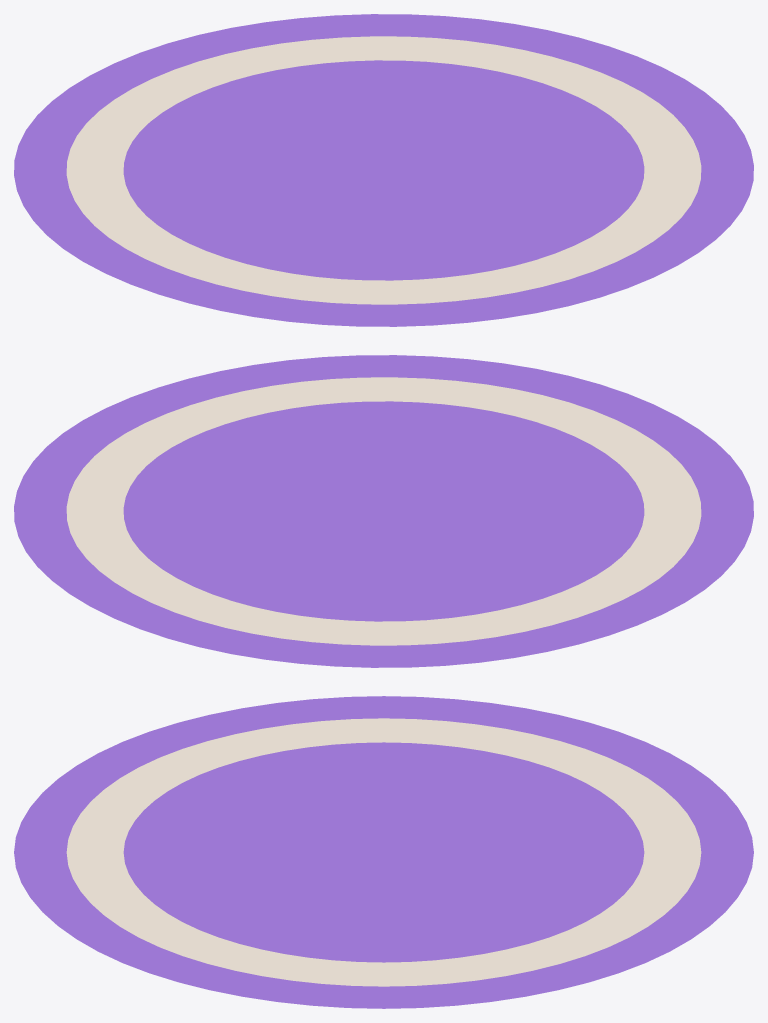
Rendered from carpet.fbx.
The picture shows the model from 3 angles, top to bottom: view 1: azimuth 30°, elevation 25°; view 2: azimuth 150°, elevation 25°; view 3: azimuth 270°, elevation 25°; orthographic projection.
Visible parts, largest first — view 1: Carpet; view 2: Carpet; view 3: Carpet.
Part boxes in pixels (left/top/right/bottom): Carpet: left=14, top=14, right=753, bottom=326; Carpet: left=14, top=355, right=753, bottom=667; Carpet: left=14, top=696, right=753, bottom=1008.
Size of the model in its own units: 10136 by 0.00528 by 10136.
